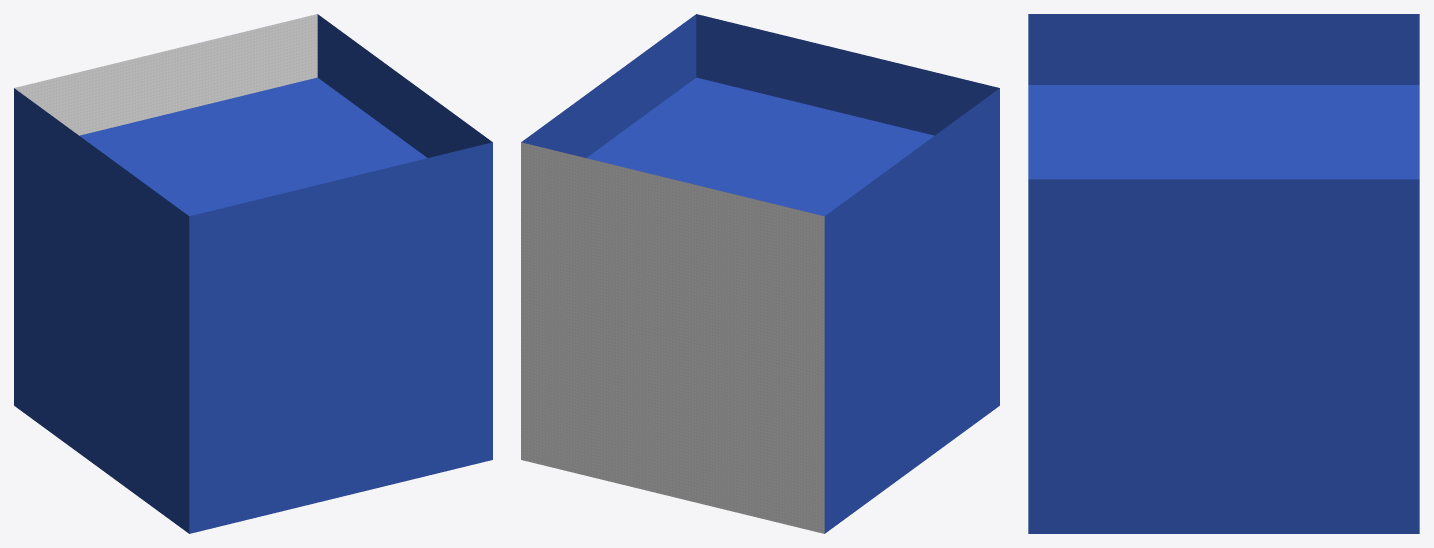
The model's file is kari.obj.
3 views of the same model, side by side, from view 1: azimuth 30°, elevation 25°; view 2: azimuth 150°, elevation 25°; view 3: azimuth 270°, elevation 25° (orthographic). The views are drawn at different scales.
Visible parts, largest first — view 1: KabeOku1, KabeRight1, Yane1, KabeTemae1, KabeLeft1; view 2: KabeTemae1, KabeRight1, Yane1, KabeOku1, KabeLeft1; view 3: KabeLeft1, Yane1, KabeRight1.
Boxes of the visible parts, x1,y1,x2,y2 form: KabeOku1: [189, 142, 492, 533]; KabeRight1: [14, 88, 189, 533]; Yane1: [79, 77, 427, 216]; KabeTemae1: [14, 14, 317, 135]; KabeLeft1: [317, 14, 492, 157]; KabeTemae1: [521, 142, 824, 533]; KabeRight1: [824, 88, 999, 533]; Yane1: [586, 77, 934, 216]; KabeOku1: [696, 14, 999, 135]; KabeLeft1: [521, 14, 696, 157]; KabeLeft1: [1028, 179, 1419, 533]; Yane1: [1028, 85, 1419, 179]; KabeRight1: [1028, 14, 1419, 84].
Size of the model in its own units: 100 by 100 by 100.
